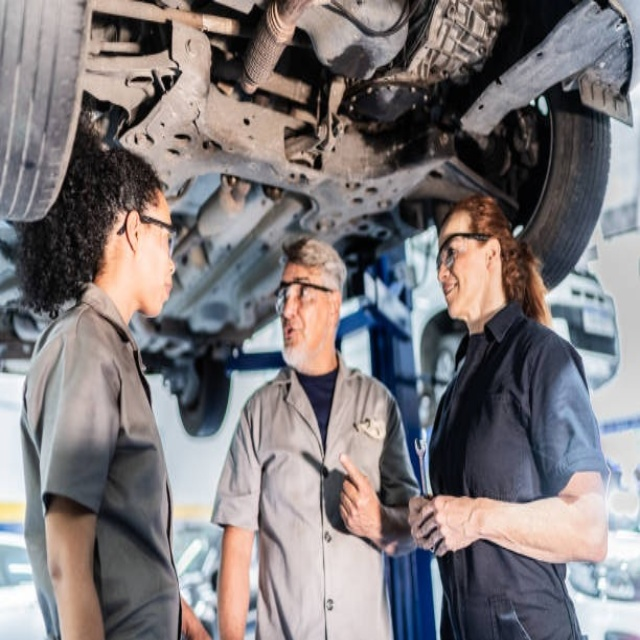Gafas: (119, 212, 178, 255), (436, 231, 493, 270), (274, 280, 336, 315)
Sin_guantes: (335, 450, 382, 541), (411, 494, 448, 555)
Sin_mascara: (145, 274, 175, 313), (280, 321, 308, 361), (441, 280, 466, 321)
